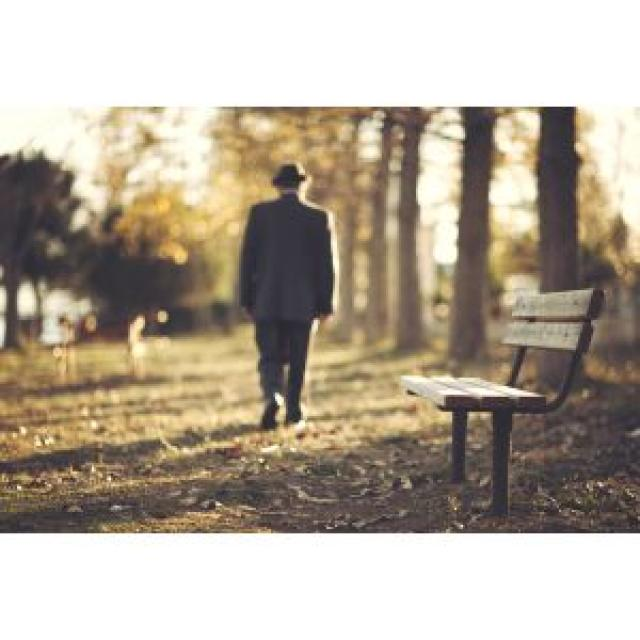nonfall: (240, 167, 360, 411)
